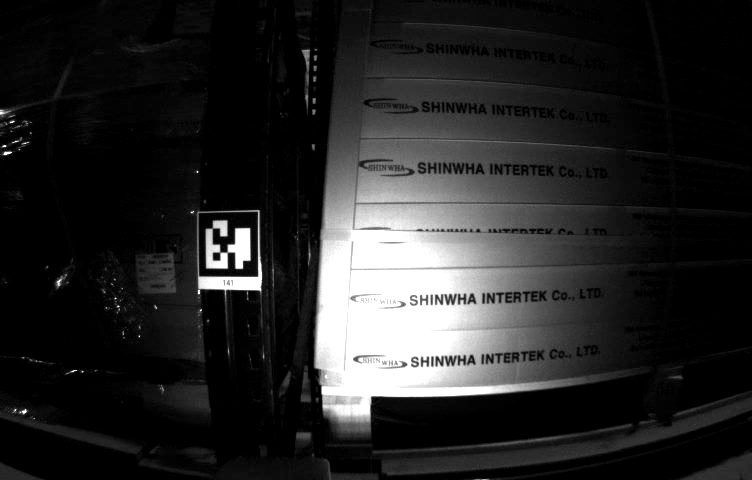True Barcode: (136, 254, 174, 294)
